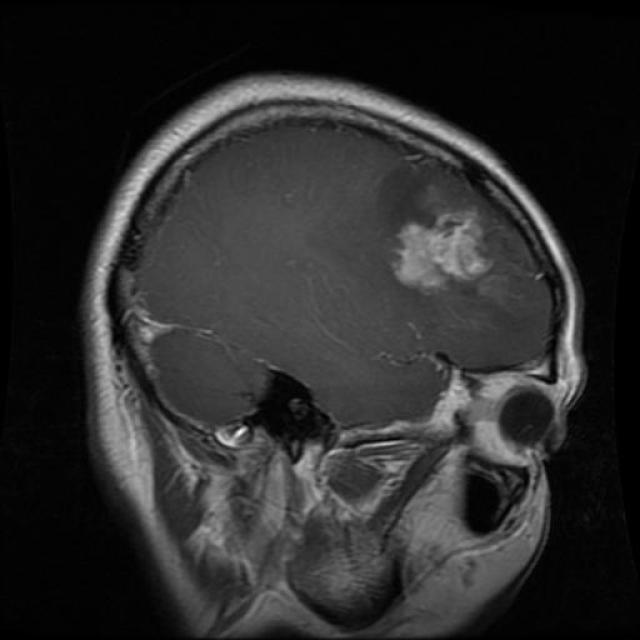glioma: (380, 178, 505, 308)
